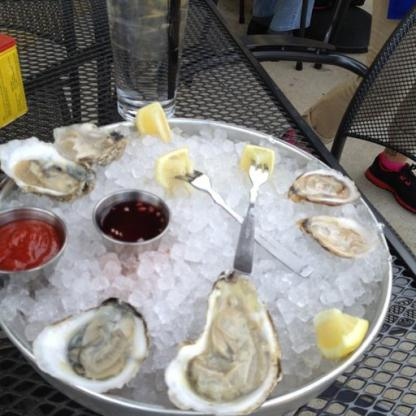oyster: (174, 279, 280, 415), (35, 296, 148, 393), (2, 138, 92, 198), (302, 217, 376, 261), (288, 171, 356, 208)
